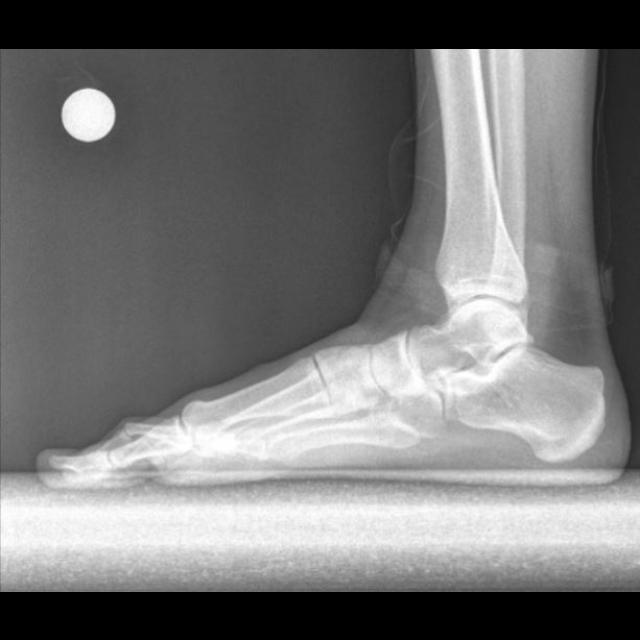a: (445, 343, 604, 461)
b: (370, 328, 435, 405)
c: (180, 353, 336, 466)
